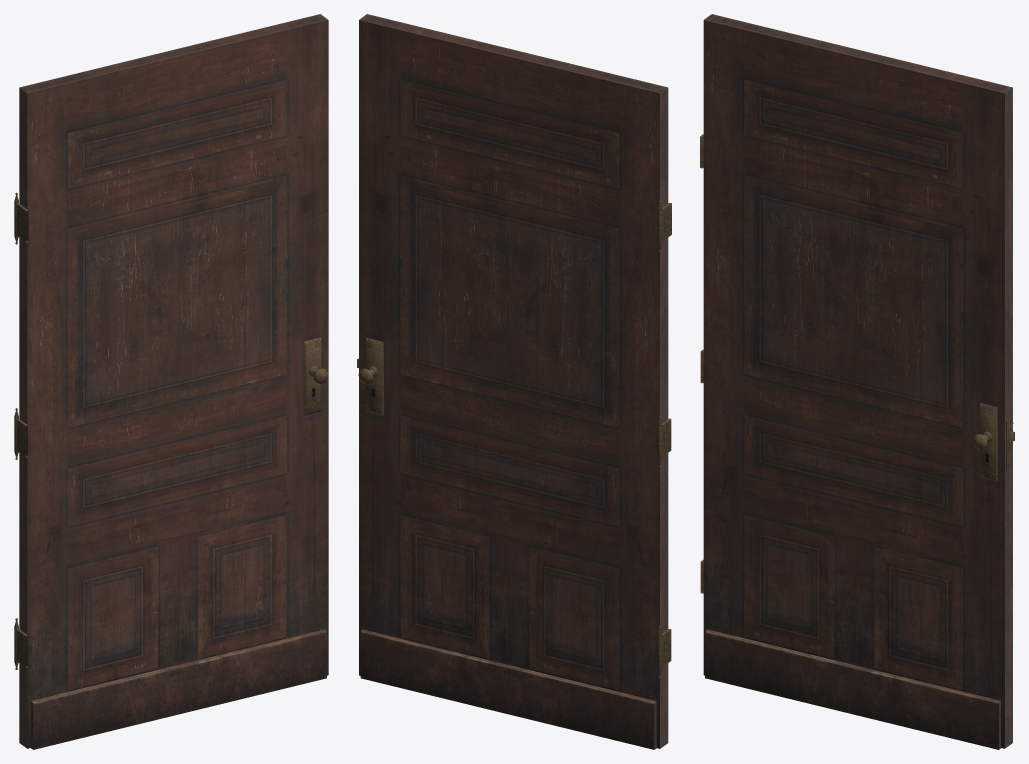
The model's file is 600_Door.fbx.
3 views of the same model, side by side, from view 1: azimuth 30°, elevation 25°; view 2: azimuth 150°, elevation 25°; view 3: azimuth 330°, elevation 25° (orthographic).
Visible parts, largest first — view 1: sm40010policedoor01a00md_1_Group_1_Sub_1__sm40_010_Poli_d49f, sm40010policedoor01a00md_1_Group_101_Sub_1__sm40_010_Po_5ab3; view 2: sm40010policedoor01a00md_1_Group_1_Sub_1__sm40_010_Poli_d49f, sm40010policedoor01a00md_1_Group_100_Sub_1__sm40_010_Po_1c45; view 3: sm40010policedoor01a00md_1_Group_1_Sub_1__sm40_010_Poli_d49f, sm40010policedoor01a00md_1_Group_101_Sub_1__sm40_010_Po_5ab3.
Part boxes in pixels (x1,y1,x2,y2): sm40010policedoor01a00md_1_Group_1_Sub_1__sm40_010_Poli_d49f: (14,14,328,749); sm40010policedoor01a00md_1_Group_101_Sub_1__sm40_010_Po_5ab3: (303,337,328,415); sm40010policedoor01a00md_1_Group_1_Sub_1__sm40_010_Poli_d49f: (357,14,671,749); sm40010policedoor01a00md_1_Group_100_Sub_1__sm40_010_Po_1c45: (358,337,383,415); sm40010policedoor01a00md_1_Group_1_Sub_1__sm40_010_Poli_d49f: (700,14,1014,749); sm40010policedoor01a00md_1_Group_101_Sub_1__sm40_010_Po_5ab3: (972,403,997,481).
Size of the model in its own units: 1.03 by 2.08 by 0.1743.
